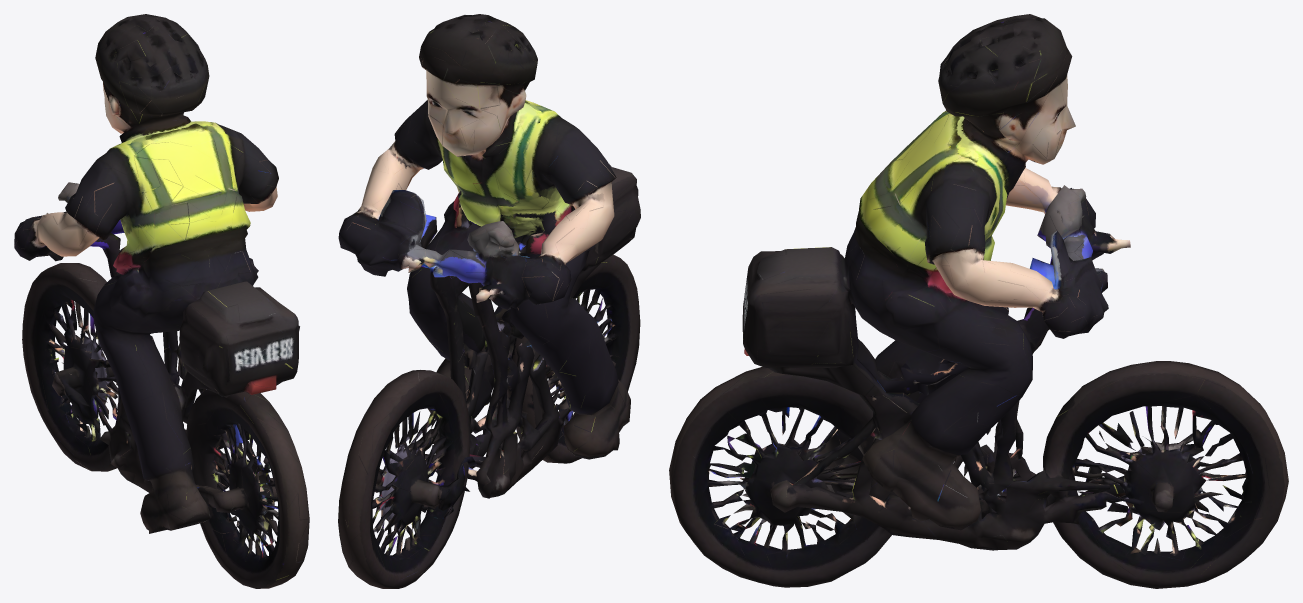
The model's file is officer-riding.glb.
3 views of the same model, side by side, from view 1: azimuth 30°, elevation 25°; view 2: azimuth 150°, elevation 25°; view 3: azimuth 270°, elevation 25° (orthographic). The views are drawn at different scales.
Parts seen in each view (by area): view 1: geometry_0; view 2: geometry_0; view 3: geometry_0.
Boxes of the visible parts, x1=… form: geometry_0: x1=14, y1=14, x2=309, y2=588; geometry_0: x1=338, y1=14, x2=640, y2=588; geometry_0: x1=669, y1=14, x2=1288, y2=588.
Size of the model in its own units: 0.9343 by 1.99 by 2.
1 material, 1 textured.
